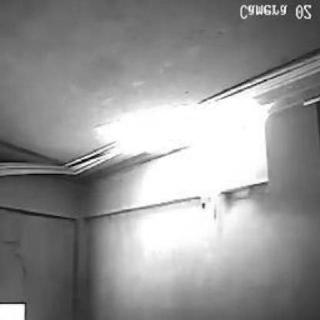other: (115, 93, 279, 255)
